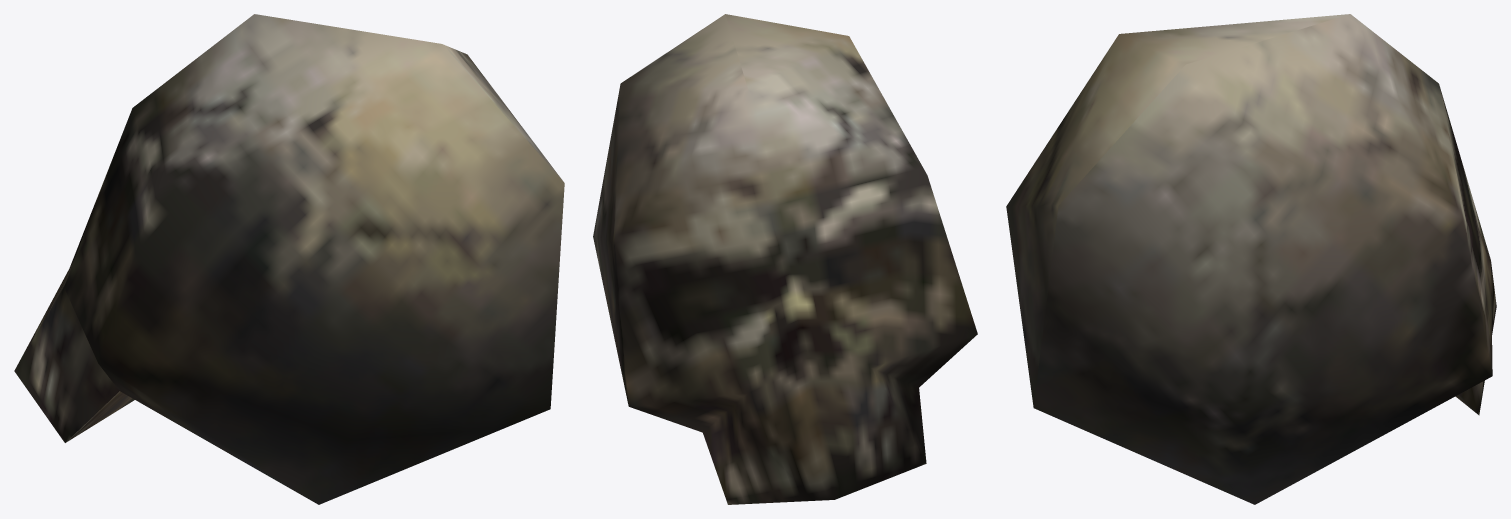
File: 2_PSD_KuLouZhu_01.FBX
3 views of the same model, side by side, from view 1: azimuth 30°, elevation 25°; view 2: azimuth 150°, elevation 25°; view 3: azimuth 270°, elevation 25° (orthographic). The views are drawn at different scales.
Visible parts, largest first — view 1: 2_PSD_KuLouZhu_01; view 2: 2_PSD_KuLouZhu_01; view 3: 2_PSD_KuLouZhu_01.
Part boxes in pixels (x1,y1,x2,y2): 2_PSD_KuLouZhu_01: (14, 14, 564, 504); 2_PSD_KuLouZhu_01: (593, 14, 977, 504); 2_PSD_KuLouZhu_01: (1006, 14, 1496, 504).
Size of the model in its own units: 21.06 by 19.75 by 19.98.
1 material, 1 textured.
